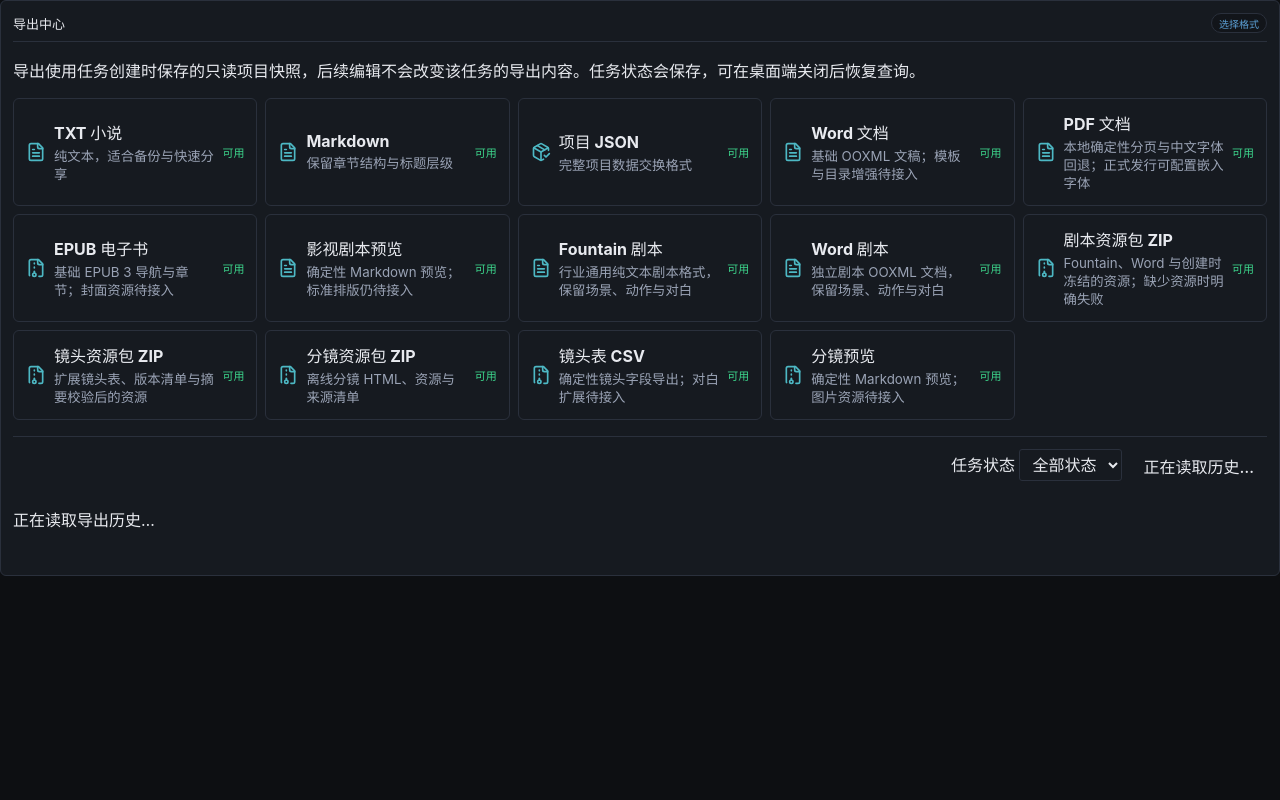
Test case: ExportPanel industry formats › preserves cancel, retry and pending button states
Click the button "Fountain 剧本 行业通用纯文本剧本格式，保留场景、动作与对白 可用" at (640, 268), box [518,214,762,322]
(page scrolled)
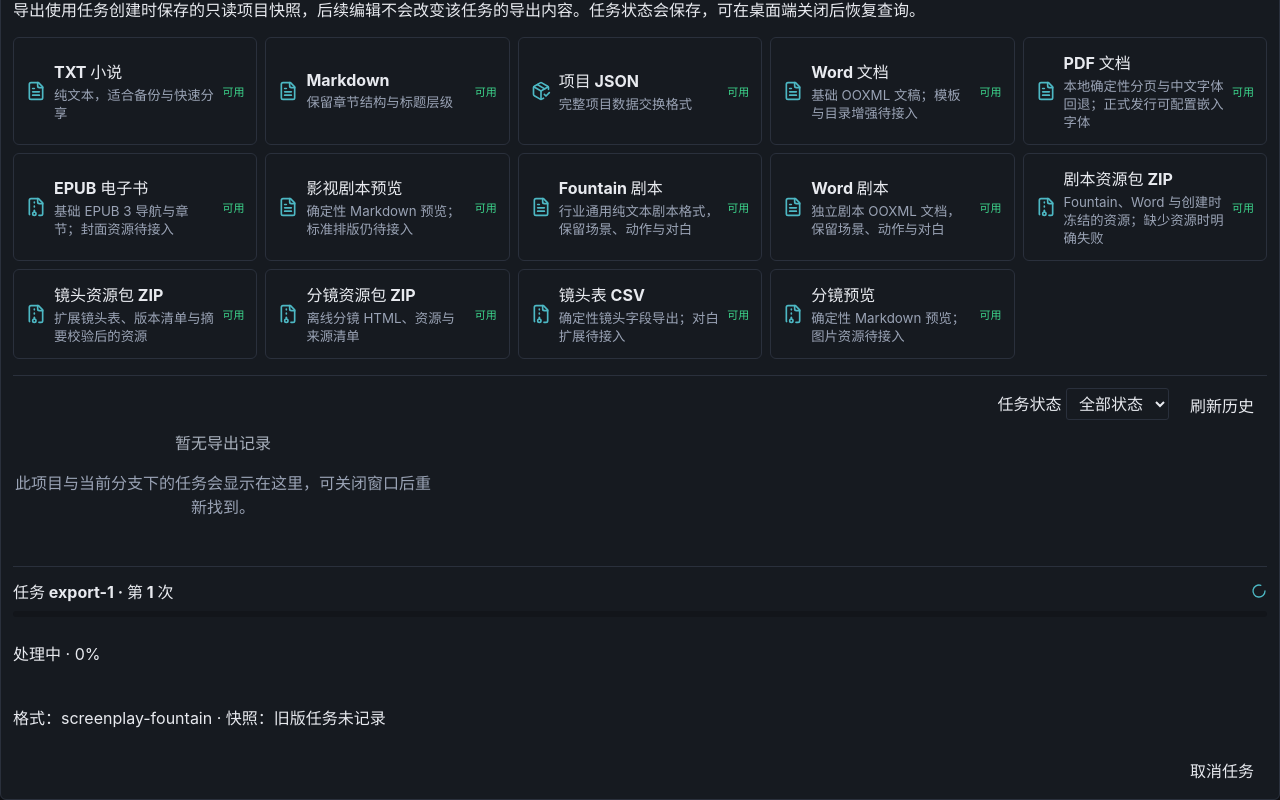
Click the button "取消任务" at (1222, 770), box [1177,753,1267,787]
(page scrolled)
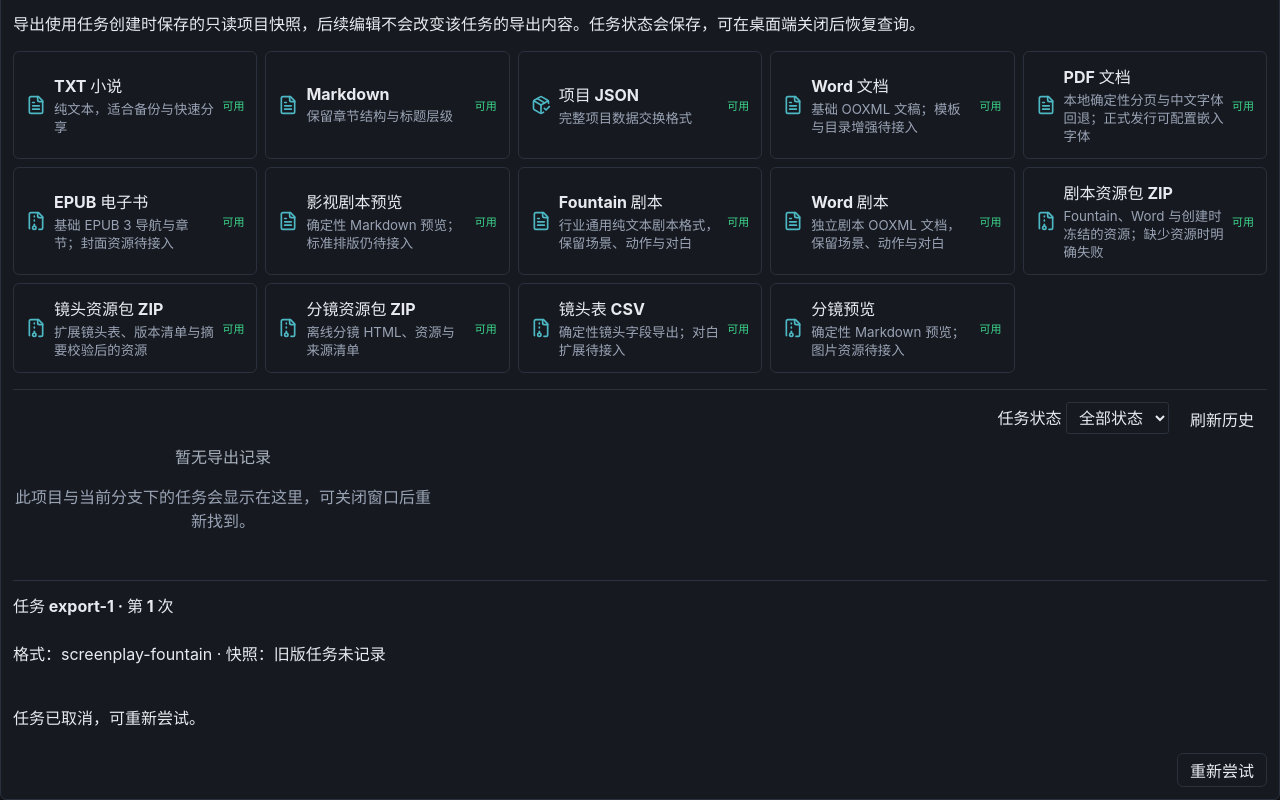
Click the button "重新尝试" at (1222, 770), box [1177,753,1267,787]
(page scrolled)
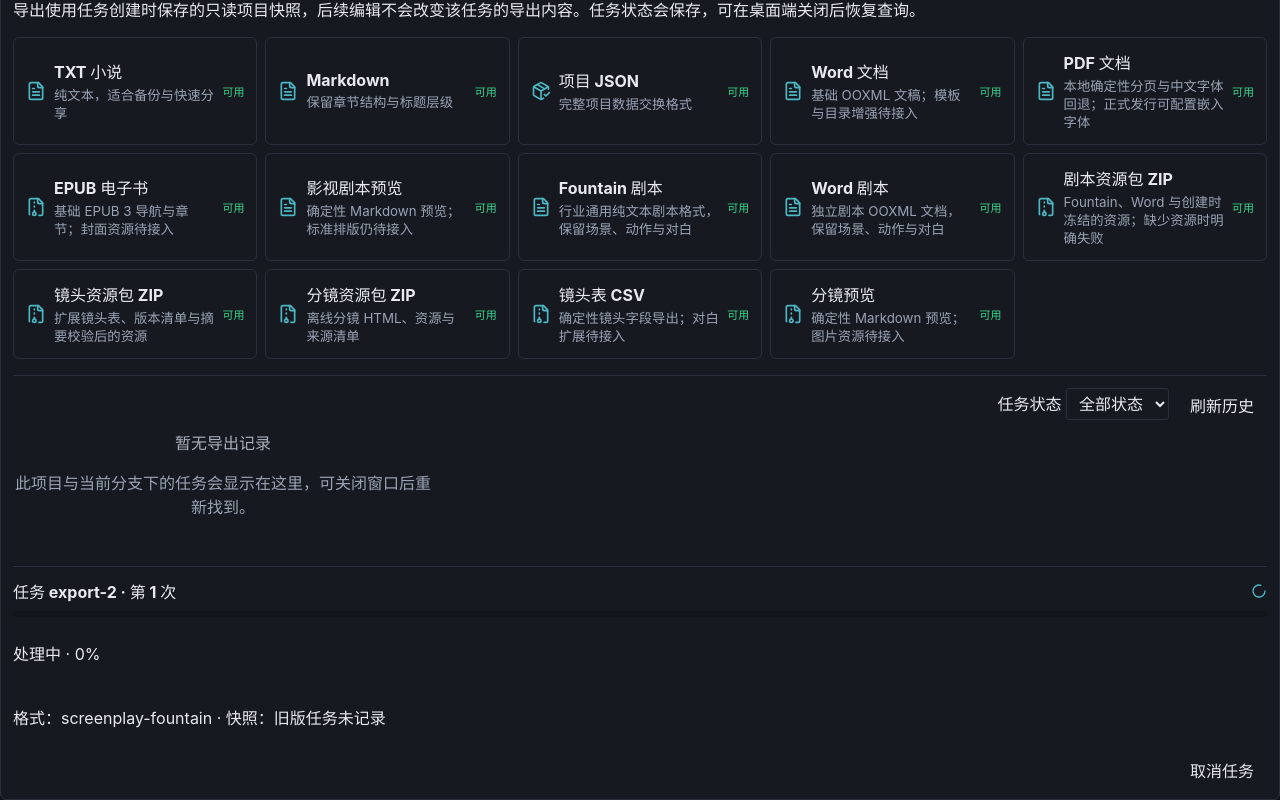
Result: the button "取消任务" is shown at [1177,753,1267,787]
